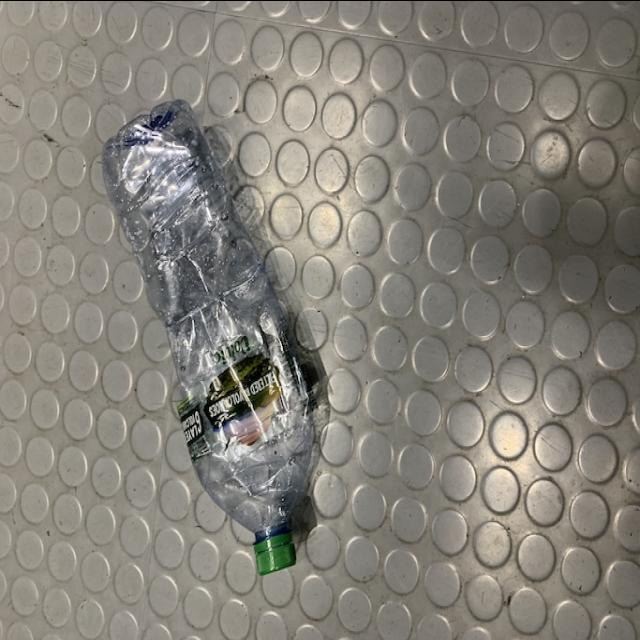PET: (102, 98, 320, 572)
